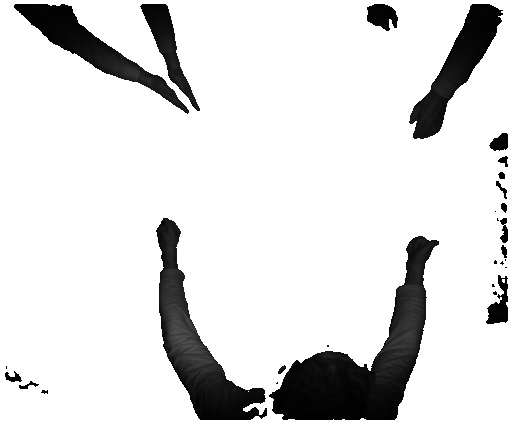fist: (404, 232, 439, 267), (152, 216, 183, 252)
hand: (408, 95, 451, 143)
spine: (143, 75, 191, 119), (169, 64, 199, 114)
